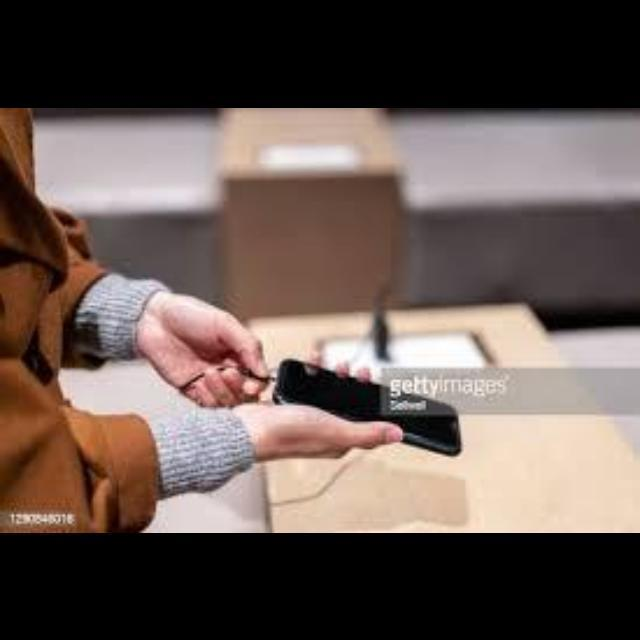phone: (242, 295, 500, 493)
